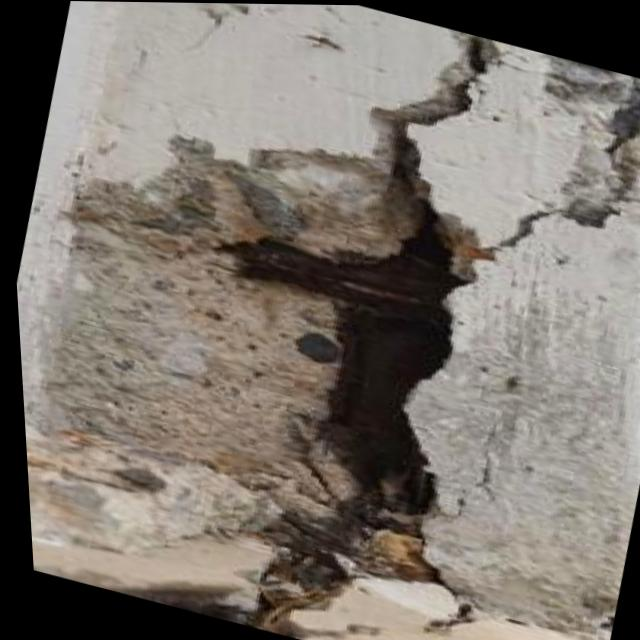Crack: (275, 155, 476, 412), (9, 192, 240, 410), (456, 154, 578, 401), (476, 45, 640, 202)
